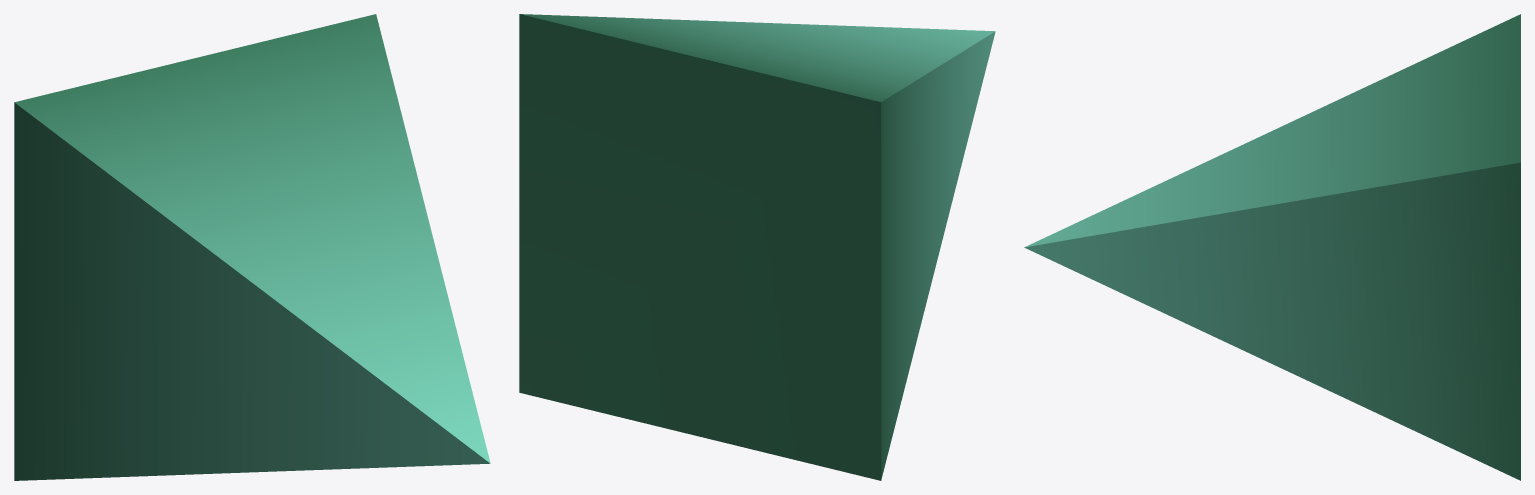
File: minimapCone2.fbx
The picture shows the model from 3 angles, left to right: view 1: azimuth 30°, elevation 25°; view 2: azimuth 150°, elevation 25°; view 3: azimuth 270°, elevation 25°; orthographic projection. The views are drawn at different scales.
Parts seen in each view (by area): view 1: Cone; view 2: Cone; view 3: Cone.
Boxes of the visible parts, box(x1,y1,x2,y2) form: Cone: box(14, 14, 490, 480); Cone: box(519, 14, 995, 480); Cone: box(1024, 14, 1520, 480).
Size of the model in its own units: 141 by 141 by 200.
